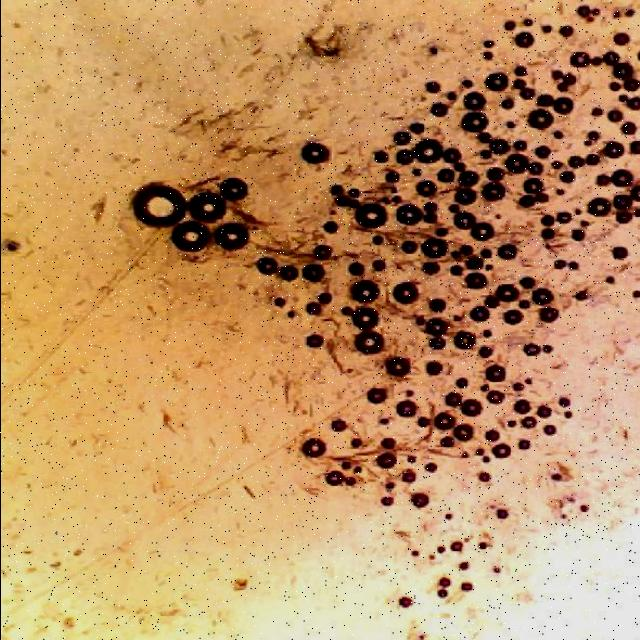microbeads: (128, 182, 186, 228)
